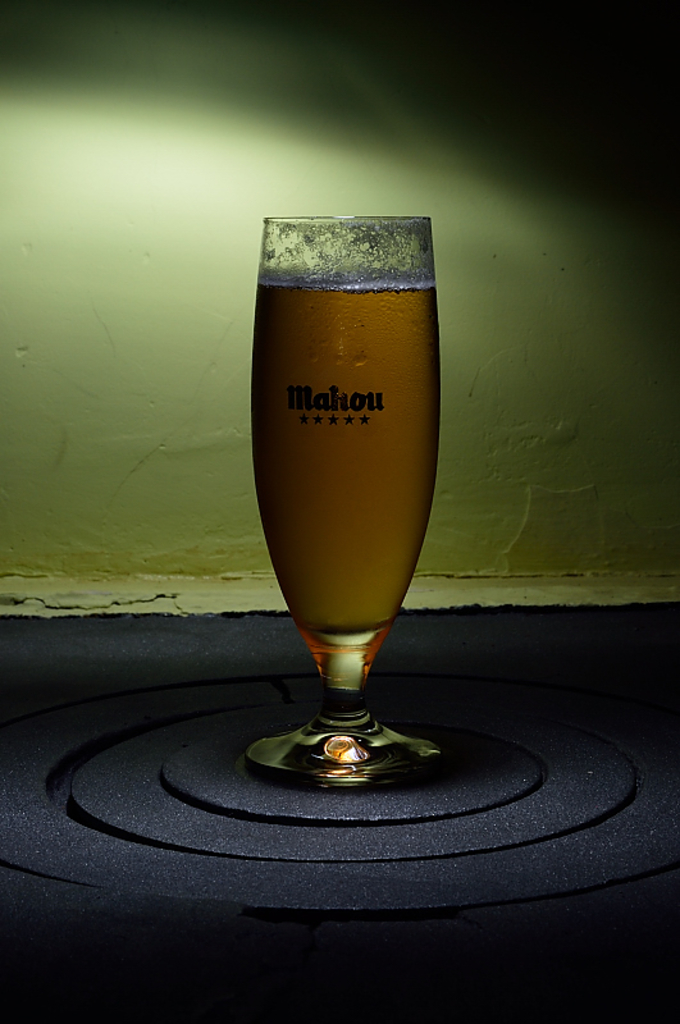Beer: (250, 279, 437, 629)
